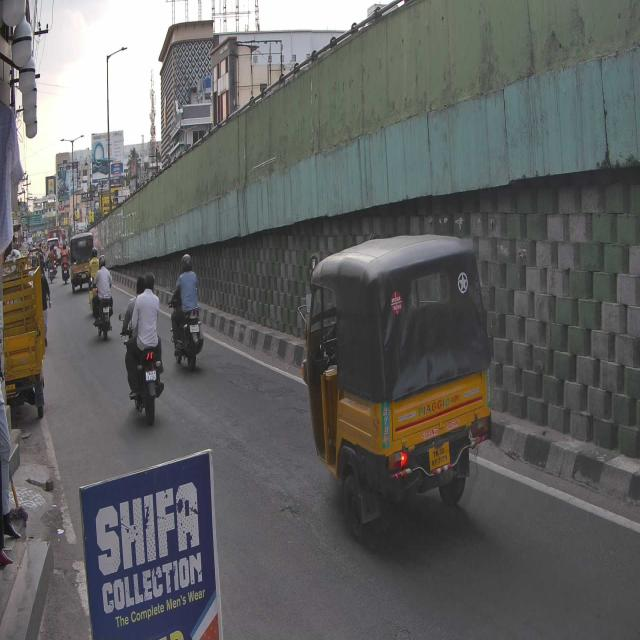double_rider: (117, 270, 168, 428)
